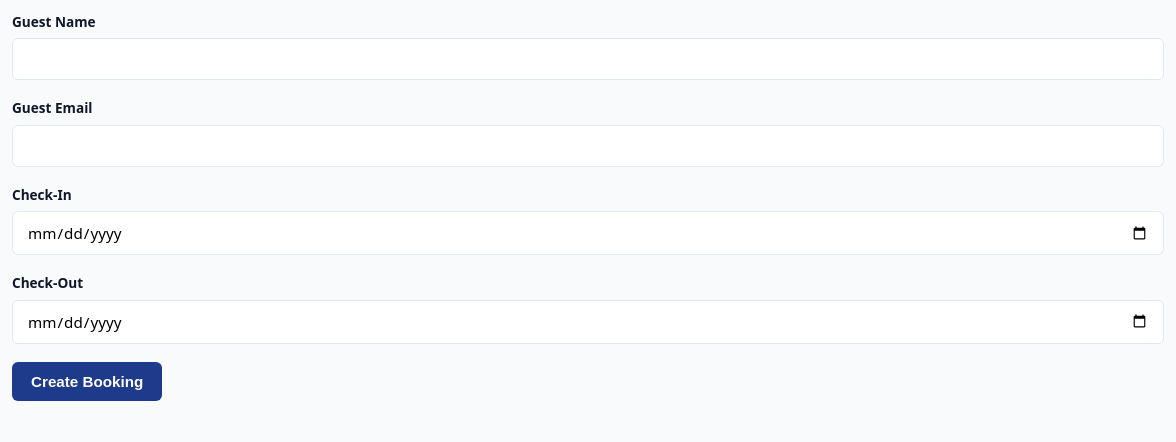
BookingForm › submits valid form and shows success
Type "Jane Smith" into the field labelled "Guest Name".
click(588, 59); type("Jane Smith")  # box [12, 38, 1164, 80]
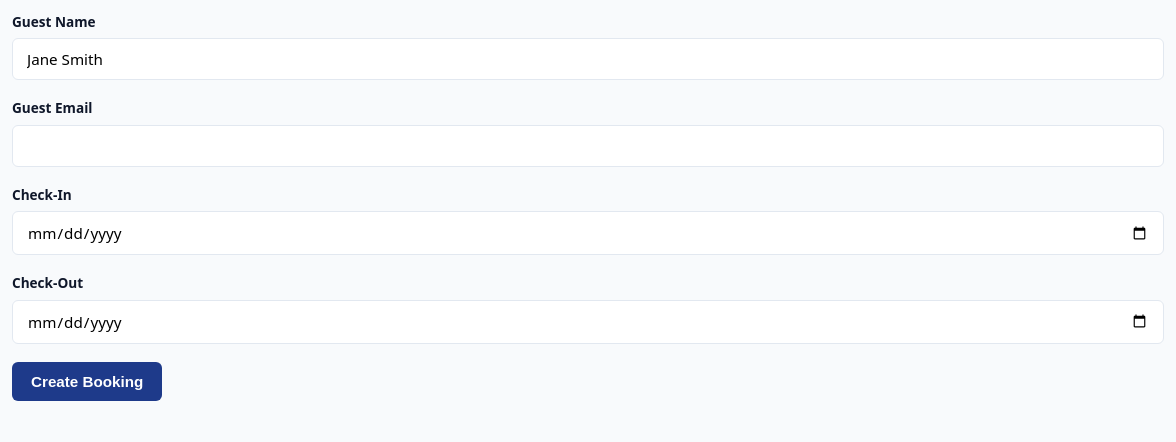
Type "jane@site.com" into the field labelled "Guest Email".
click(588, 146); type("jane@site.com")  # box [12, 125, 1164, 167]
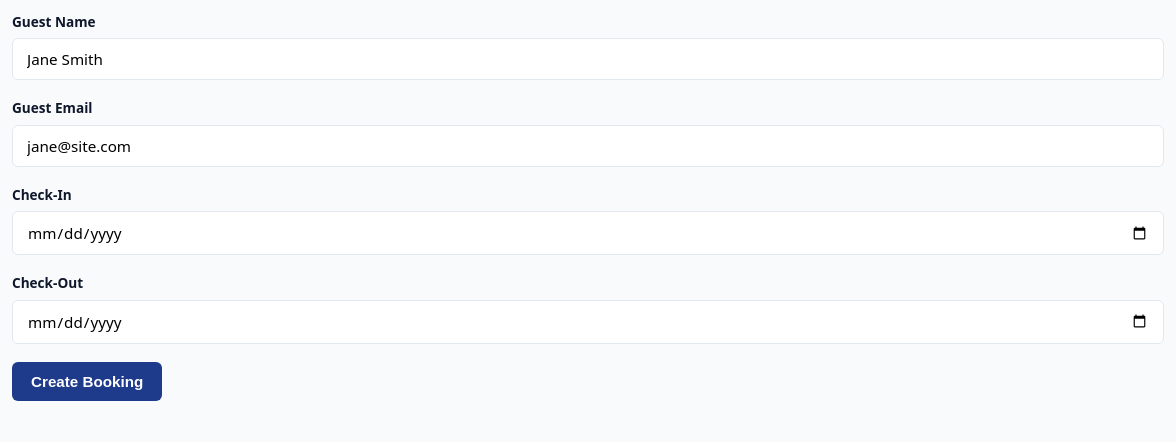
Type "2023-01-02" into the date field labelled "Check-In".
click(588, 233); type("2023-01-02")  # box [12, 211, 1164, 255]
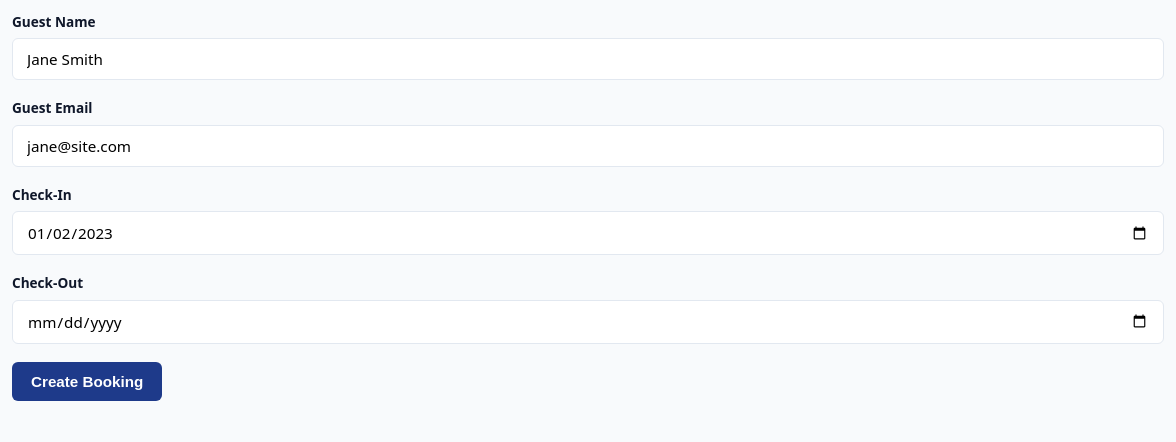
Type "2023-01-05" into the date field labelled "Check-Out".
click(588, 322); type("2023-01-05")  # box [12, 300, 1164, 344]
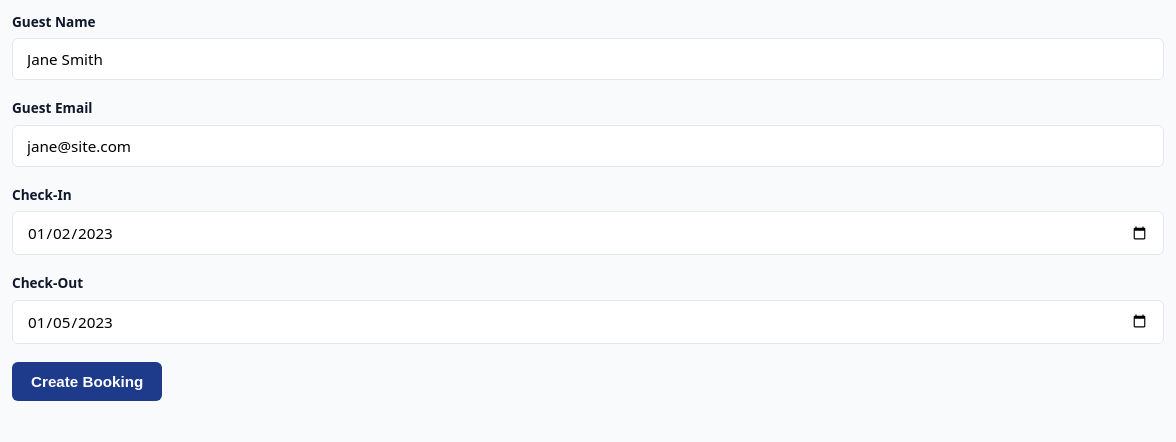
Click the button "Create Booking".
click(87, 381)  # box [12, 362, 162, 401]
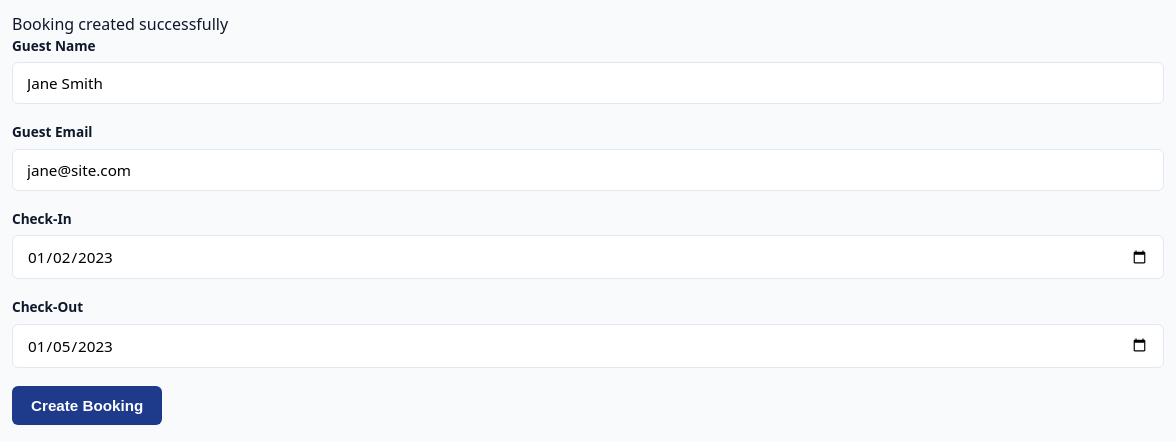
Result: the text "Booking created successfully" is shown at [12, 13, 228, 35]
